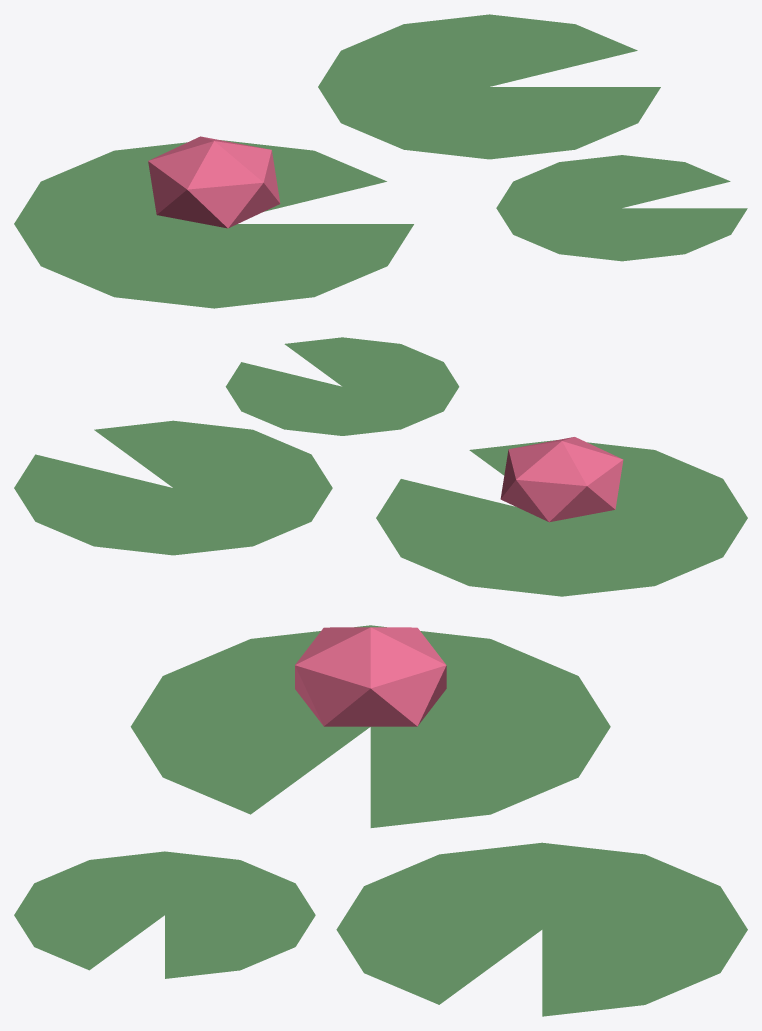
File: nature_lily_pads.glb
The picture shows the model from 3 angles, top to bottom: view 1: azimuth 30°, elevation 25°; view 2: azimuth 150°, elevation 25°; view 3: azimuth 270°, elevation 25°; orthographic projection. The views are drawn at different scales.
Parts seen in each view (by area): view 1: nature_lily_pads; view 2: nature_lily_pads; view 3: nature_lily_pads.
Boxes of the visible parts, left/top/right/bottom form: nature_lily_pads: left=14, top=14, right=747, bottom=308; nature_lily_pads: left=14, top=337, right=747, bottom=596; nature_lily_pads: left=14, top=625, right=747, bottom=1016.
Bounding box in the file's own units: 1.35 × 0.16 × 1.07.
